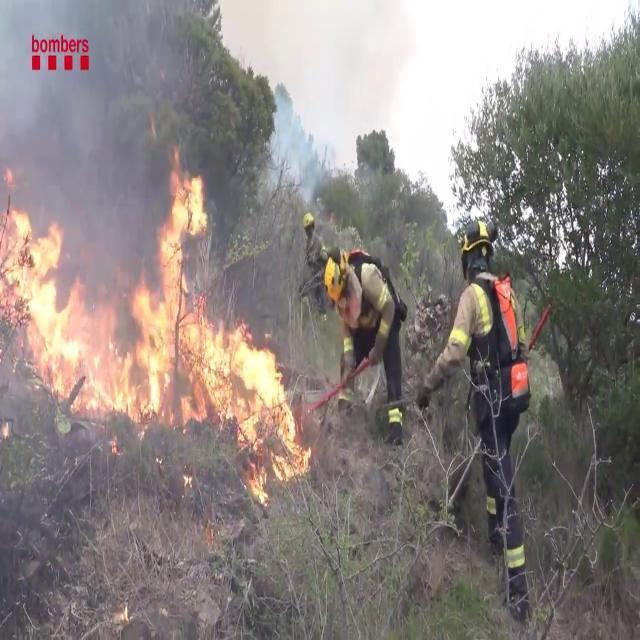Fire: (1, 160, 304, 476)
Smoke: (0, 0, 186, 293)
